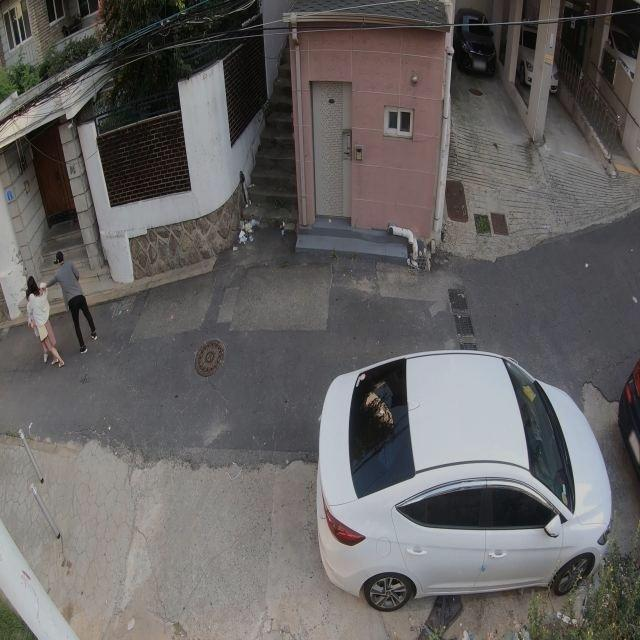fight: (22, 247, 98, 366)
